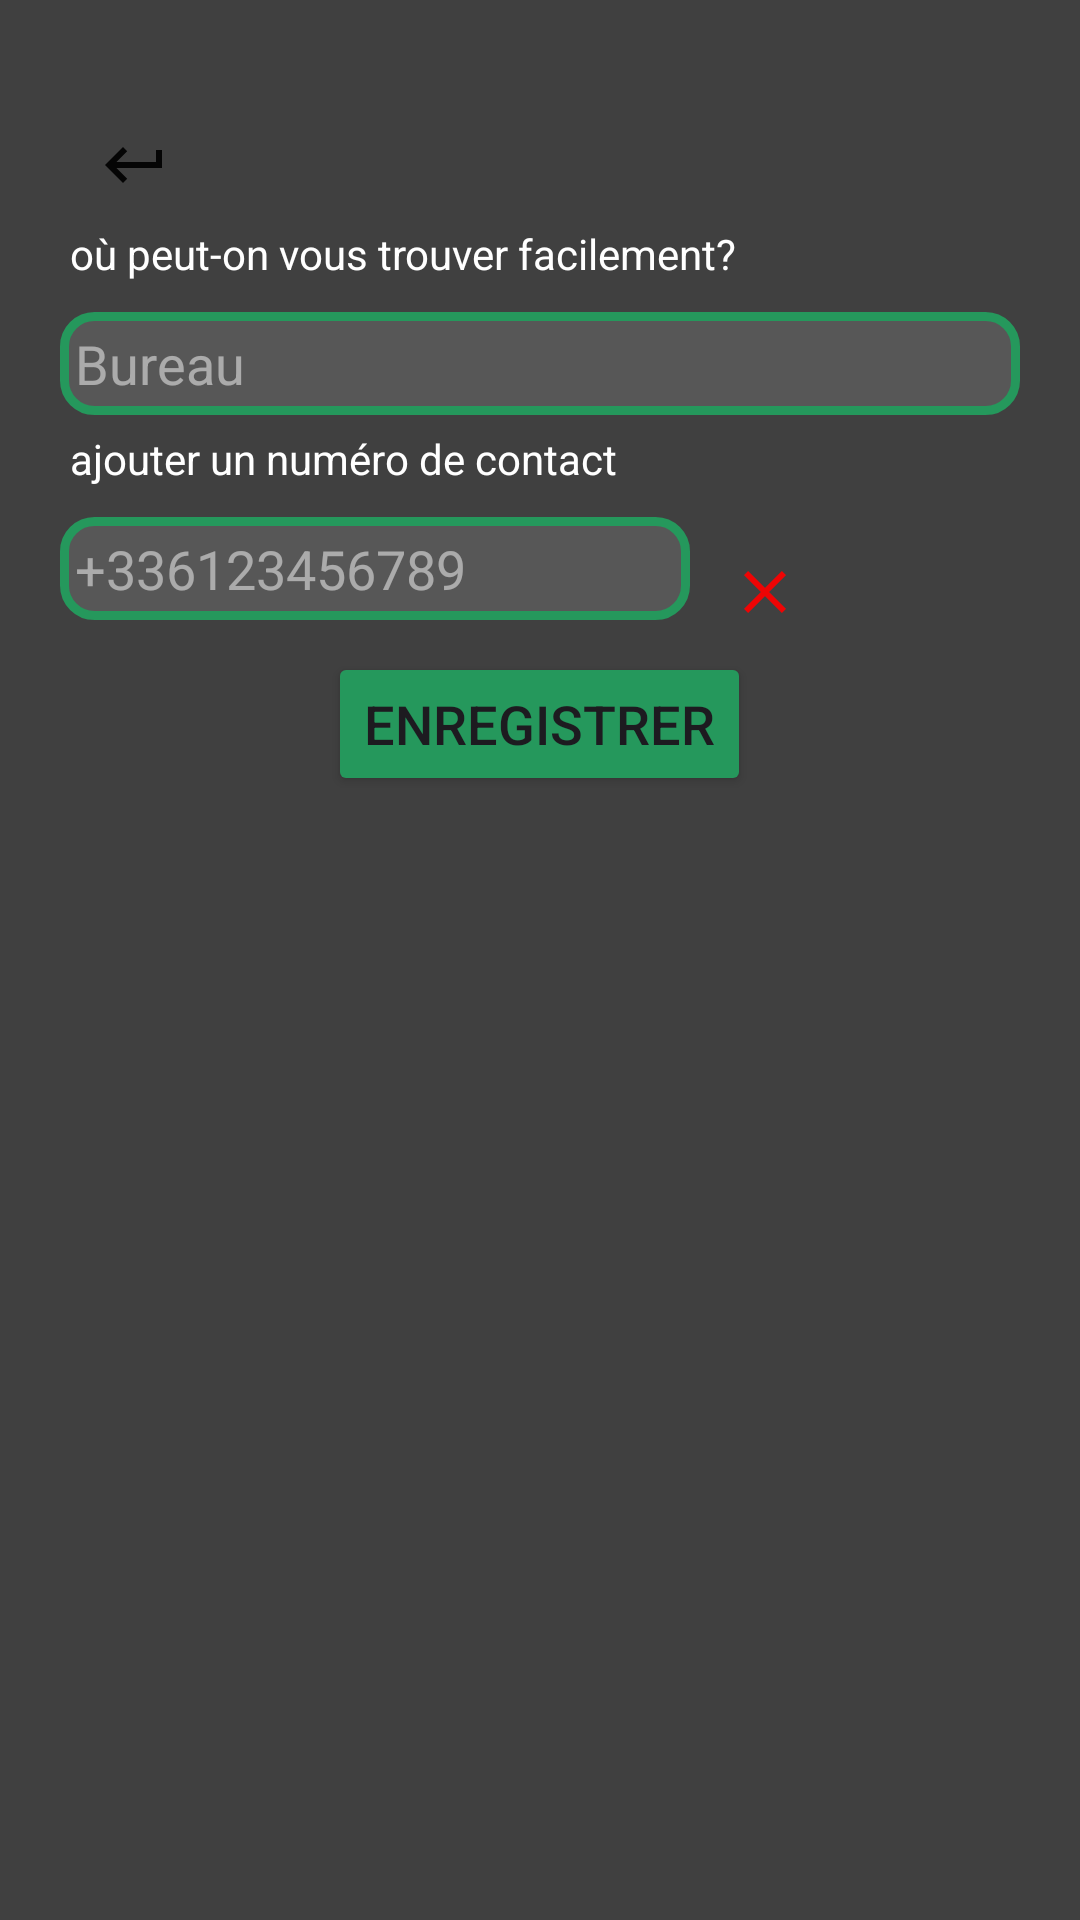

Where icons sit on this 1080 x 1920 app screen, as (x1, y1, x2, y2):
close: (744, 571, 786, 613)
keyboard return: (105, 147, 162, 183)
